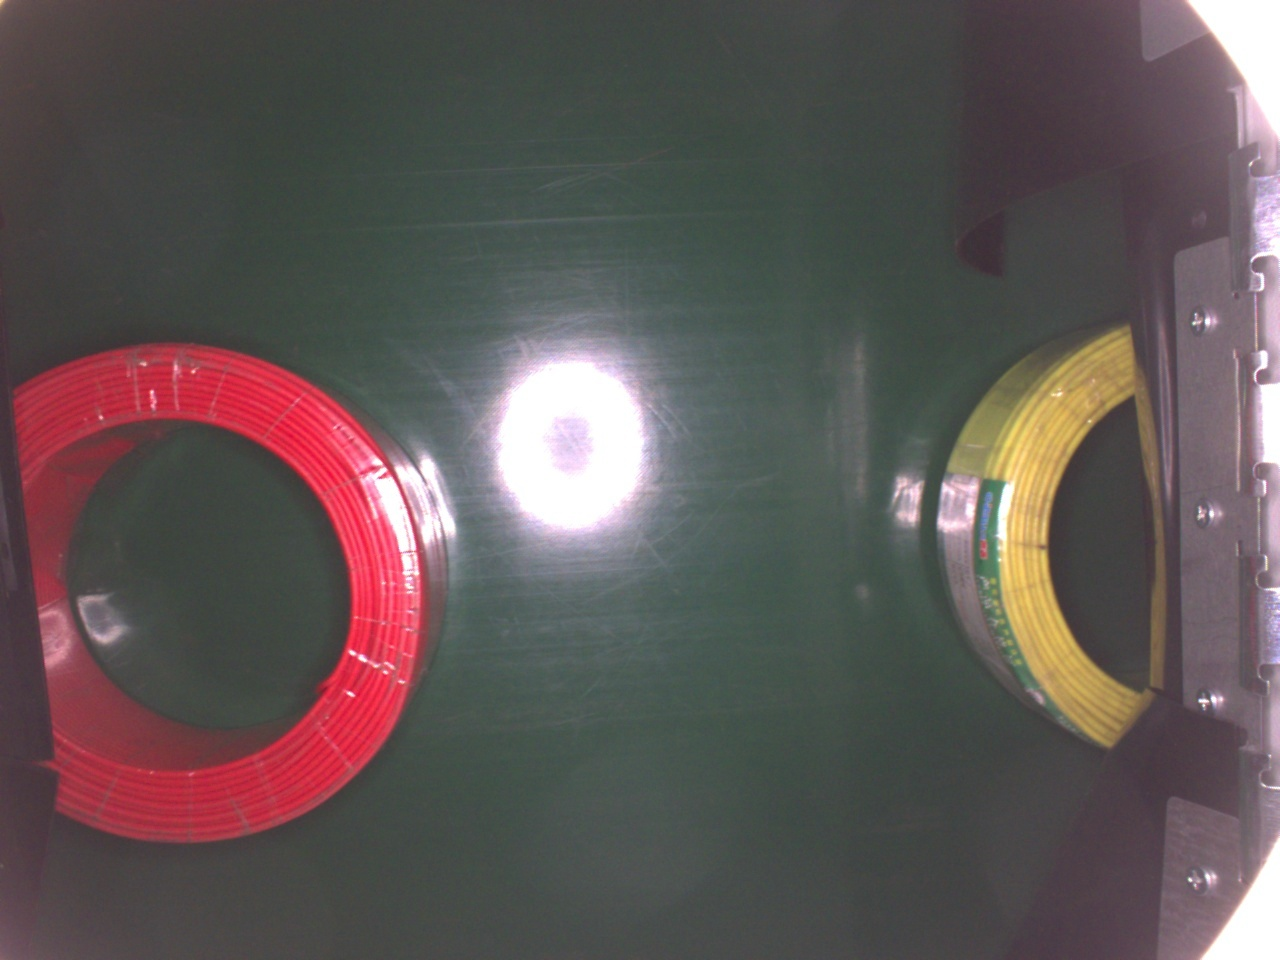red: (10, 337, 446, 845)
yellow: (936, 324, 1147, 751)
